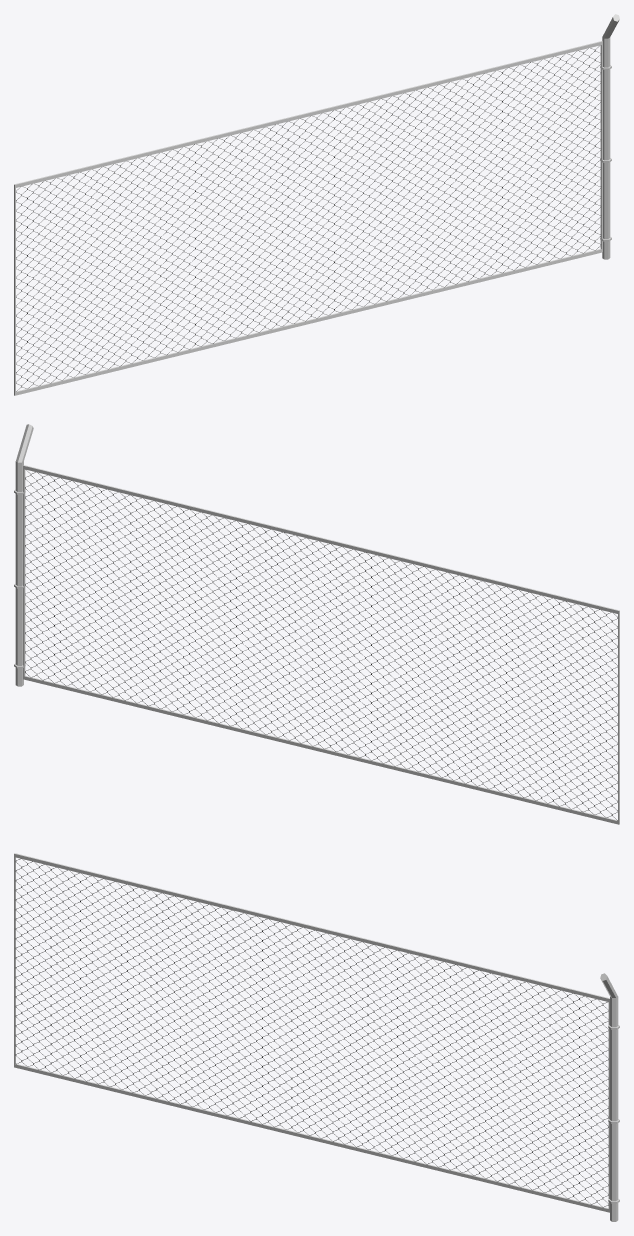
The model's file is cerca arame.fbx.
3 views of the same model, one above another, from view 1: azimuth 30°, elevation 25°; view 2: azimuth 150°, elevation 25°; view 3: azimuth 330°, elevation 25° (orthographic).
Visible parts, largest first — view 1: Plane.002, Cylinder.015; view 2: Plane.002, Cylinder.015; view 3: Plane.002, Cylinder.015.
Boxes of the visible parts, box(x1,y1,x2,y2) form: Plane.002: box(16, 46, 601, 391); Cylinder.015: box(14, 14, 619, 395); Plane.002: box(25, 470, 617, 820); Cylinder.015: box(14, 424, 619, 824); Plane.002: box(15, 859, 608, 1207); Cylinder.015: box(14, 853, 619, 1221).
Bounding box in the file's own units: 767 × 308 × 31.57.
Materials: 1 (1 with a texture image).
